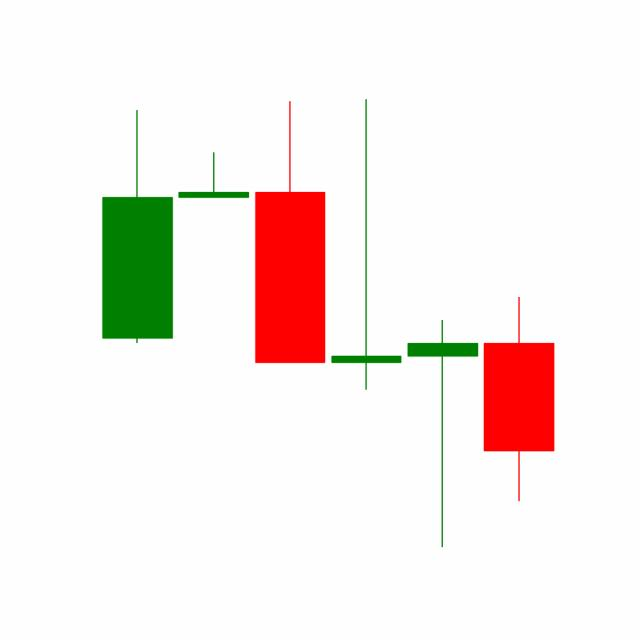Spinning Top: (403, 316, 481, 550)
